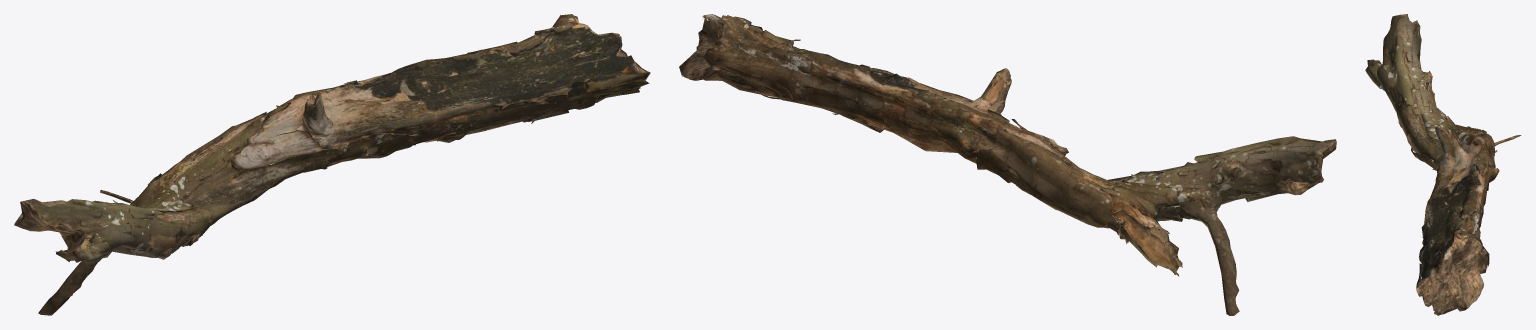
File: dead_tree_trunk_02.gltf
The picture shows the model from 3 angles, left to right: view 1: azimuth 30°, elevation 25°; view 2: azimuth 150°, elevation 25°; view 3: azimuth 270°, elevation 25°; orthographic projection. The views are drawn at different scales.
Visible parts, largest first — view 1: dead_tree_trunk_02; view 2: dead_tree_trunk_02; view 3: dead_tree_trunk_02.
Boxes of the visible parts, x1,y1,x2,y2 form: dead_tree_trunk_02: (14,14,650,315); dead_tree_trunk_02: (679,14,1336,315); dead_tree_trunk_02: (1365,14,1521,315).
Bounding box in the file's own units: 4.05 × 1.06 × 1.05.
1 material, 1 textured.
